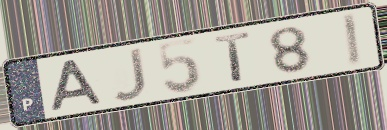5: (155, 35, 203, 96)
8: (265, 25, 315, 76)
A: (48, 57, 106, 115)
I: (339, 10, 364, 69)
J: (109, 45, 150, 104)
T: (212, 30, 254, 85)
